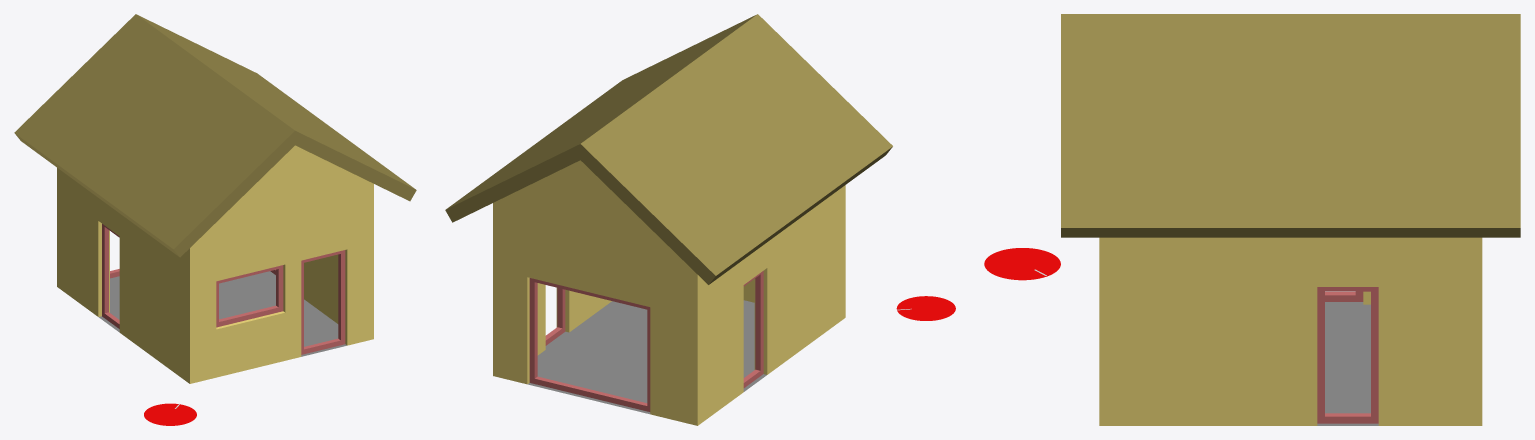
Rendered from result.glb.
The picture shows the model from 3 angles, left to right: view 1: azimuth 30°, elevation 25°; view 2: azimuth 150°, elevation 25°; view 3: azimuth 270°, elevation 25°; orthographic projection. The views are drawn at different scales.
Parts seen in each view (by area): view 1: 1451c735-890c-4d8c-95c7-f7e175b3d1fe__undefined (×2), 14060efa-5f7e-457f-a1db-cc3f035126c7__undefined, 92bcd2ec-44a5-4349-b793-f82d070ed3ed__Plane_6, 425baf49-b1d2-4d64-9ad1-067ad3758ab7__Box, 9088d454-f9cc-4640-b3a2-3e33ccc32b07__Box_3, 26eb0095-93be-4eee-a52d-6e4d48f74e58__Circle, 156ad0b2-6391-488f-92f7-e1a4b238f91b__Box_12; view 2: 1451c735-890c-4d8c-95c7-f7e175b3d1fe__undefined (×2), 14060efa-5f7e-457f-a1db-cc3f035126c7__undefined, 92bcd2ec-44a5-4349-b793-f82d070ed3ed__Plane_6, edb31488-7b4d-4608-9b94-ef2dfdc58e8f__Box_9, 26eb0095-93be-4eee-a52d-6e4d48f74e58__Circle, 156ad0b2-6391-488f-92f7-e1a4b238f91b__Box_12, 83451f7a-e550-4a90-be46-3e01a1aec6e7__Box_15; view 3: 1451c735-890c-4d8c-95c7-f7e175b3d1fe__undefined, 14060efa-5f7e-457f-a1db-cc3f035126c7__undefined, 92bcd2ec-44a5-4349-b793-f82d070ed3ed__Plane_6, 83451f7a-e550-4a90-be46-3e01a1aec6e7__Box_15, 26eb0095-93be-4eee-a52d-6e4d48f74e58__Circle.
Boxes of the visible parts, x1=… form: 1451c735-890c-4d8c-95c7-f7e175b3d1fe__undefined (×2): x1=14, y1=14, x2=416, y2=257; 14060efa-5f7e-457f-a1db-cc3f035126c7__undefined: x1=57, y1=145, x2=373, y2=383; 92bcd2ec-44a5-4349-b793-f82d070ed3ed__Plane_6: x1=98, y1=271, x2=346, y2=356; 425baf49-b1d2-4d64-9ad1-067ad3758ab7__Box: x1=301, y1=250, x2=345, y2=354; 9088d454-f9cc-4640-b3a2-3e33ccc32b07__Box_3: x1=216, y1=265, x2=283, y2=327; 26eb0095-93be-4eee-a52d-6e4d48f74e58__Circle: x1=144, y1=403, x2=196, y2=425; 156ad0b2-6391-488f-92f7-e1a4b238f91b__Box_12: x1=102, y1=224, x2=119, y2=328; 1451c735-890c-4d8c-95c7-f7e175b3d1fe__undefined (×2): x1=445, y1=14, x2=892, y2=284; 14060efa-5f7e-457f-a1db-cc3f035126c7__undefined: x1=493, y1=160, x2=845, y2=425; 92bcd2ec-44a5-4349-b793-f82d070ed3ed__Plane_6: x1=527, y1=300, x2=766, y2=414; edb31488-7b4d-4608-9b94-ef2dfdc58e8f__Box_9: x1=529, y1=278, x2=650, y2=411; 26eb0095-93be-4eee-a52d-6e4d48f74e58__Circle: x1=896, y1=296, x2=955, y2=320; 156ad0b2-6391-488f-92f7-e1a4b238f91b__Box_12: x1=743, y1=271, x2=763, y2=387; 83451f7a-e550-4a90-be46-3e01a1aec6e7__Box_15: x1=545, y1=288, x2=565, y2=345; 1451c735-890c-4d8c-95c7-f7e175b3d1fe__undefined: x1=1061, y1=14, x2=1520, y2=237; 14060efa-5f7e-457f-a1db-cc3f035126c7__undefined: x1=1099, y1=237, x2=1482, y2=425; 92bcd2ec-44a5-4349-b793-f82d070ed3ed__Plane_6: x1=1317, y1=302, x2=1378, y2=425; 83451f7a-e550-4a90-be46-3e01a1aec6e7__Box_15: x1=1317, y1=287, x2=1378, y2=423; 26eb0095-93be-4eee-a52d-6e4d48f74e58__Circle: x1=984, y1=248, x2=1060, y2=280.
Size of the model in its own units: 614 by 500 by 700.
